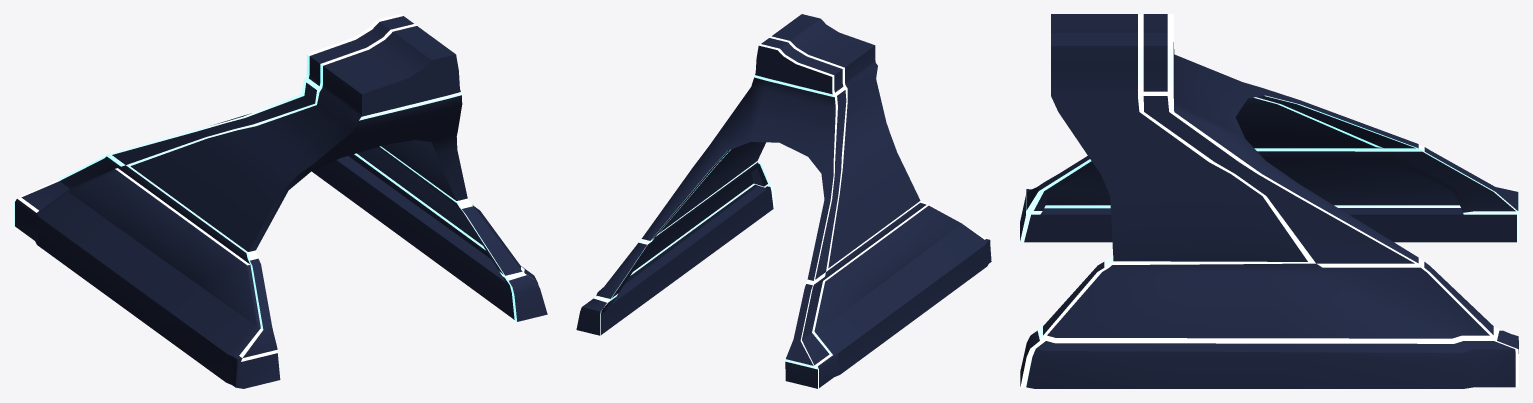
Rendered from Tower_3Ln_.fbx.
3 renders of one model, left to right at view 1: azimuth 30°, elevation 25°; view 2: azimuth 150°, elevation 25°; view 3: azimuth 270°, elevation 25°, orthographic. The views are drawn at different scales.
Parts seen in each view (by area): view 1: Tower_3Ln_; view 2: Tower_3Ln_; view 3: Tower_3Ln_.
Boxes of the visible parts, x1,y1,x2,y2 form: Tower_3Ln_: (14,14,547,388); Tower_3Ln_: (576,14,991,388); Tower_3Ln_: (1020,14,1518,388).
Bounding box in the file's own units: 2014 × 1645 × 2487.
